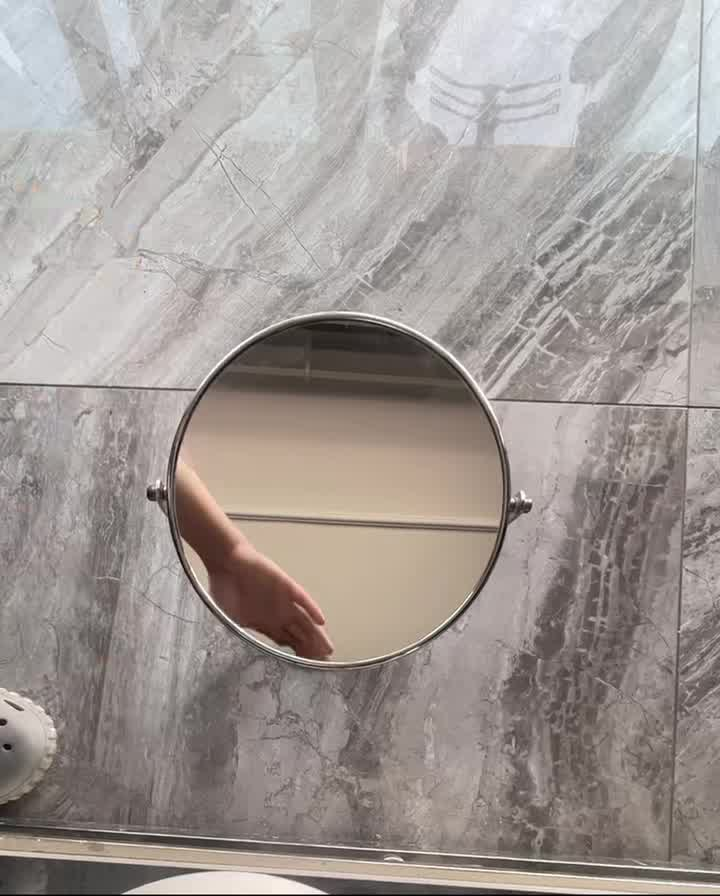mirror: (147, 298, 550, 668)
screw: (507, 484, 536, 539), (145, 477, 163, 502)
